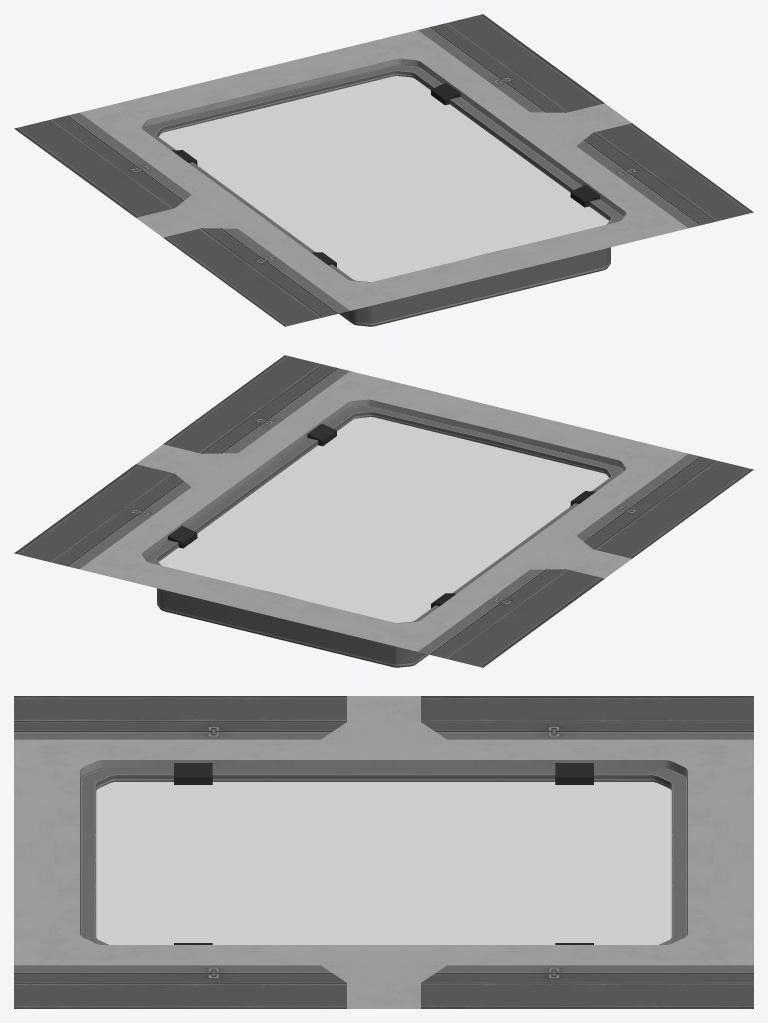
Rendered from Platform_Window_Wide.glb.
3 renders of one model, top to bottom at view 1: azimuth 30°, elevation 25°; view 2: azimuth 150°, elevation 25°; view 3: azimuth 270°, elevation 25°, orthographic. The views are drawn at different scales.
Parts seen in each view (by area): view 1: Platform_Window_Wide; view 2: Platform_Window_Wide; view 3: Platform_Window_Wide.
Boxes of the visible parts, left/top/right/bottom form: Platform_Window_Wide: left=14, top=14, right=753, bottom=326; Platform_Window_Wide: left=14, top=355, right=753, bottom=667; Platform_Window_Wide: left=14, top=696, right=753, bottom=1008.
Size of the model in its own units: 4 by 0.4131 by 4.
4 materials, 3 textured.
